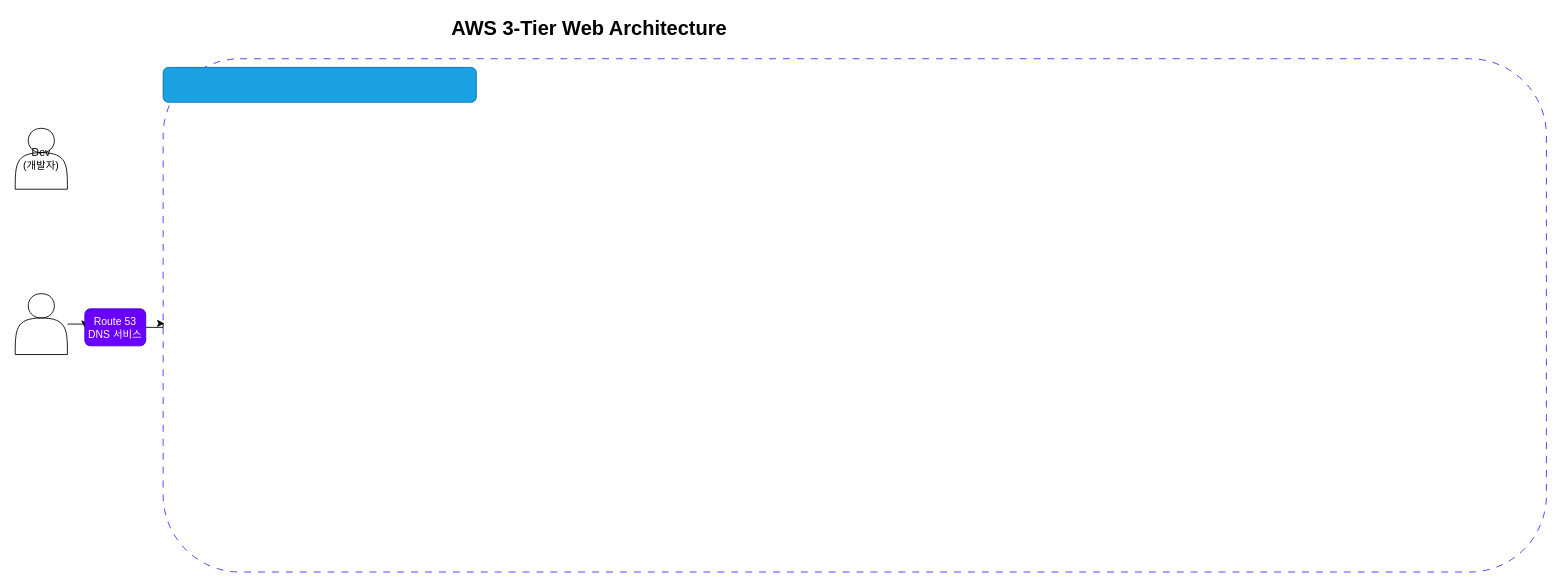
The diagram is 1562 pixels wide and 587 high, and some of its shapes have lost their labels. The box of each missing label's shape, as (x1, y1, x2, y2) in pixels:
ap-northeast-2 ( Seoul Region) 서울리전 - 한국사용자에게 가장 빠른 응답 제공: (162, 67, 476, 102)
Users (사용자): (14, 293, 67, 355)
